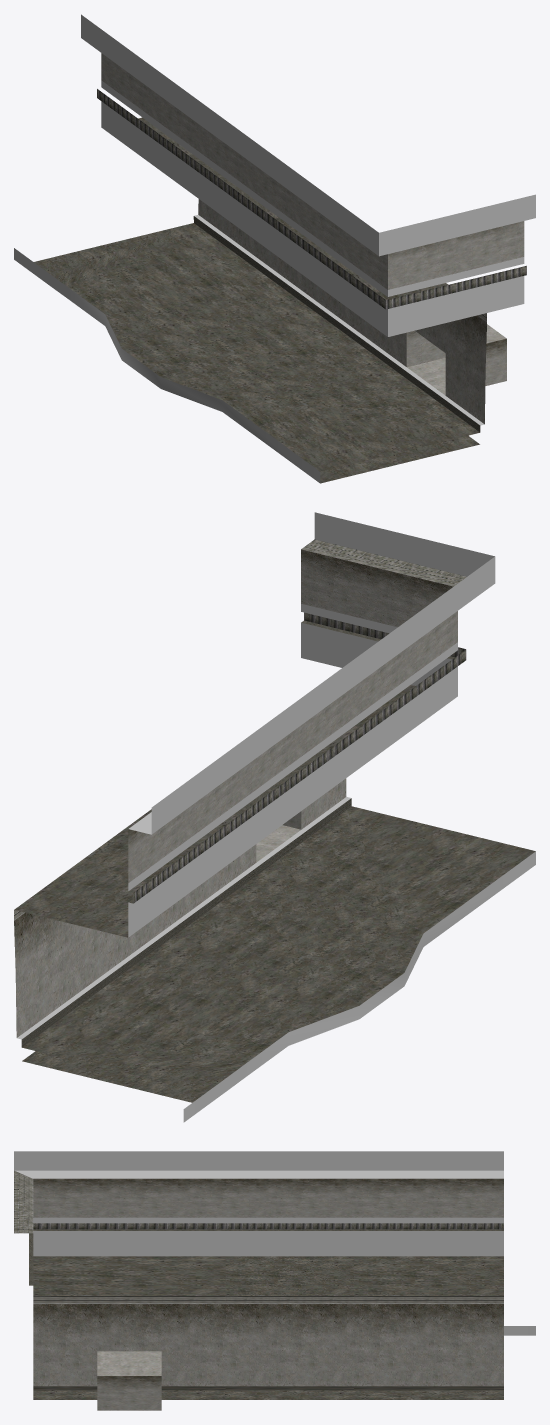
The model's file is DWARF_PALACE_ARKENSTONE_ROOM_BACKWALLA.obj.
3 renders of one model, top to bottom at view 1: azimuth 30°, elevation 25°; view 2: azimuth 150°, elevation 25°; view 3: azimuth 270°, elevation 25°, orthographic. The views are drawn at different scales.
Parts seen in each view (by area): view 1: _room_backwallA; view 2: _room_backwallA; view 3: _room_backwallA.
Boxes of the visible parts, x1,y1,x2,y2 form: _room_backwallA: (14, 14, 535, 483); _room_backwallA: (14, 512, 535, 1122); _room_backwallA: (14, 1151, 535, 1410).
Bounding box in the file's own units: 1101 × 1050 × 2440.
